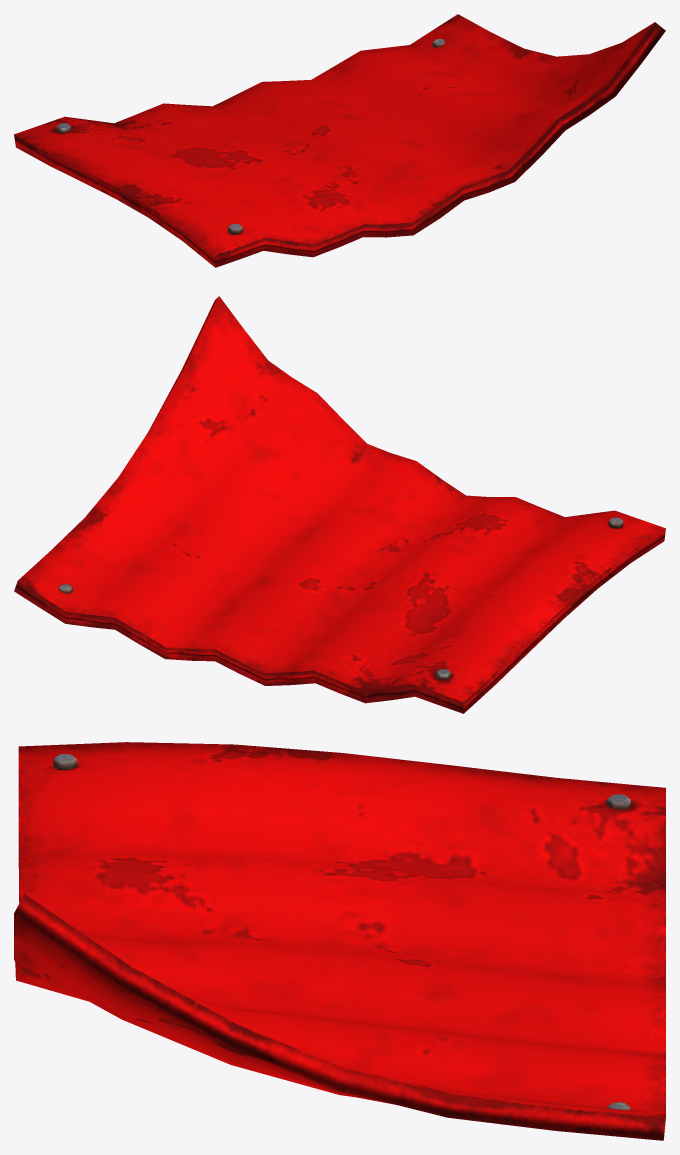
File: sheet.glb
3 views of the same model, one above another, from view 1: azimuth 30°, elevation 25°; view 2: azimuth 150°, elevation 25°; view 3: azimuth 270°, elevation 25° (orthographic). The views are drawn at different scales.
Parts seen in each view (by area): view 1: body; view 2: body; view 3: body.
Boxes of the visible parts, bbox=[...] form: body: bbox=[14, 14, 665, 267]; body: bbox=[14, 296, 665, 713]; body: bbox=[14, 742, 665, 1140].
Bounding box in the file's own units: 0.909 × 0.3538 × 0.707.
Materials: 1 (1 with a texture image).
